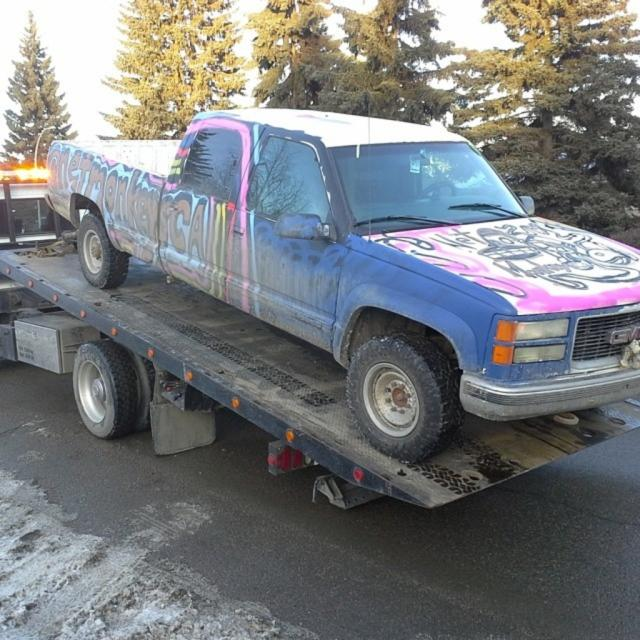car: (46, 101, 624, 480)
